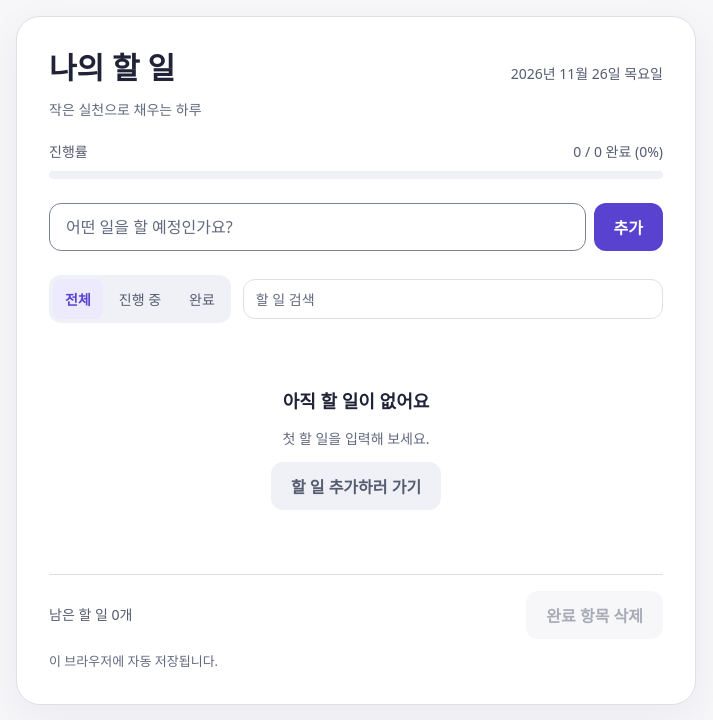
Scenario: App 통합 및 접근성 테스트 › 빈 문자열 등록 시 오류 메시지와 aria-invalid를 표시한다
Click the button with aria-label "할 일 추가".
click(628, 227)  # box [594,203,663,251]
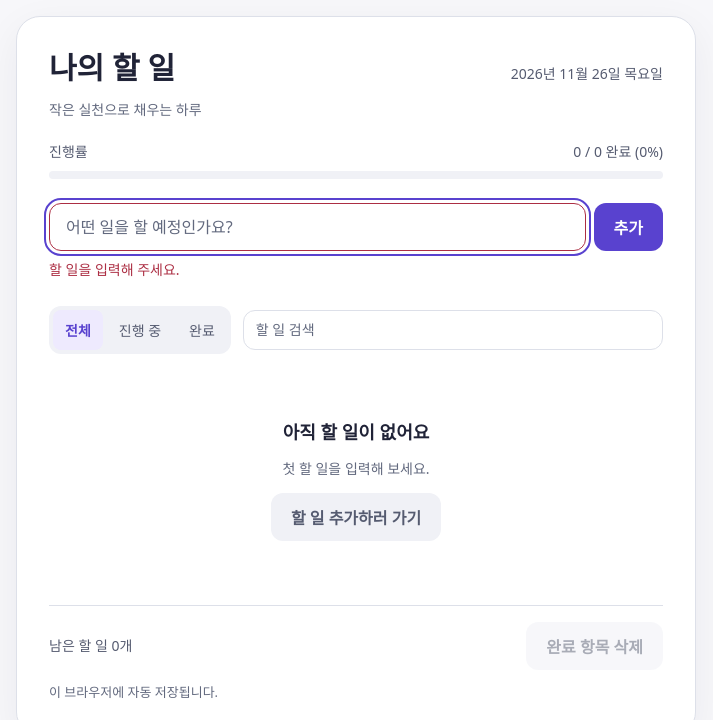
Expected: the text "할 일을 입력해 주세요." is shown, [49,260,180,279]
